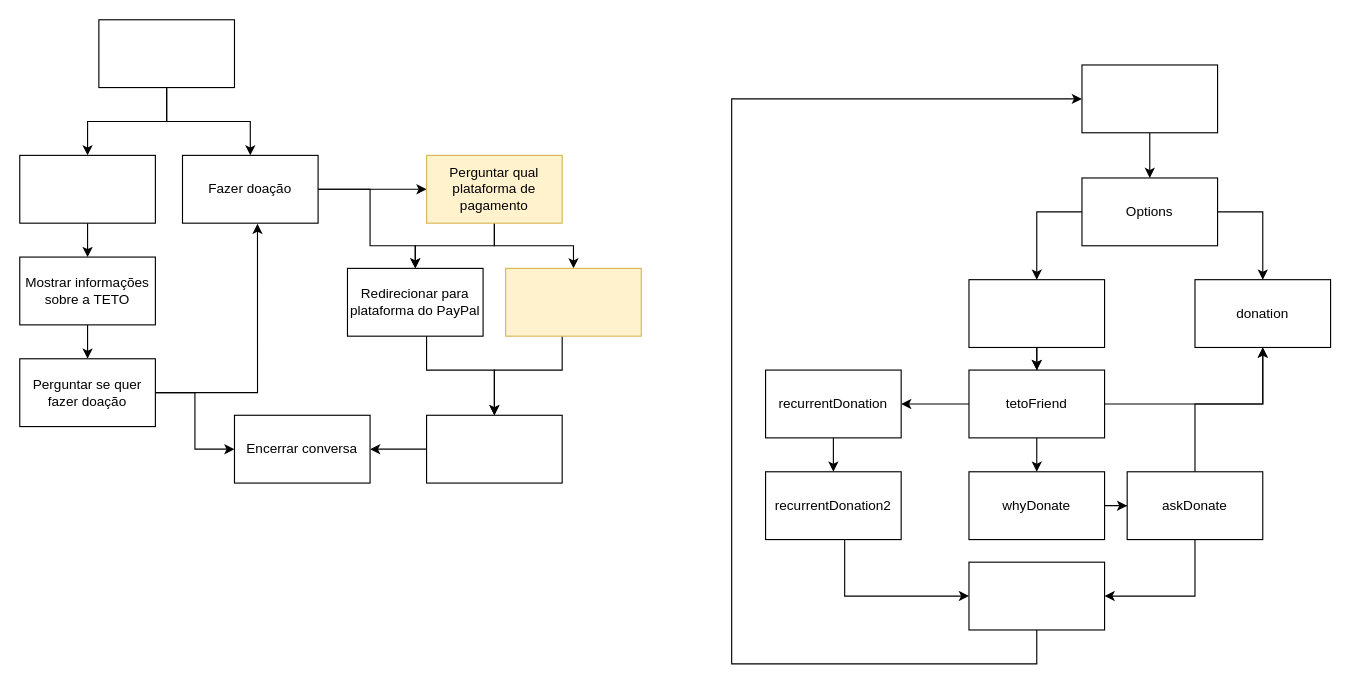
The diagram is 1350 pixels wide and 693 high, and some of its shapes have lost their labels. Each missing label, with the box of its shape:
aboutTeto: (968, 279, 1105, 347)
Agradecer a doação: (425, 414, 562, 483)
end: (968, 561, 1105, 630)
Redirecionar para plataforma do Stripe: (505, 267, 641, 336)
Saber mais sobre TETO: (19, 154, 155, 223)
Saudações: (98, 19, 234, 88)
Welcome: (1081, 64, 1218, 133)
